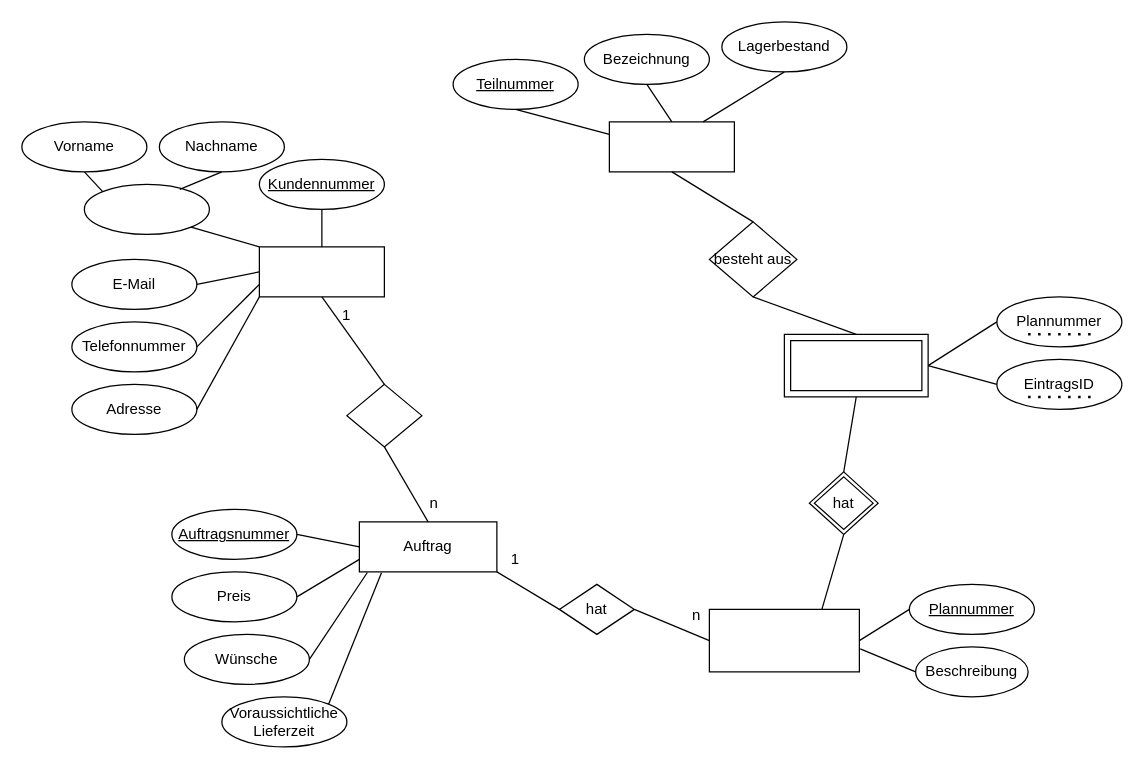
The diagram is 1144 pixels wide and 769 high, and some of its shapes have lost their labels. Each missing label, with the centre of its shape:
"erstellt" belongs at pixel 384 415.
"Konstruktionsplan" belongs at pixel 783 640.
"Kunde" belongs at pixel 321 271.
"Name" belongs at pixel 146 208.
"Stücklistenposition" belongs at pixel 855 365.
"Teil" belongs at pixel 671 146.
